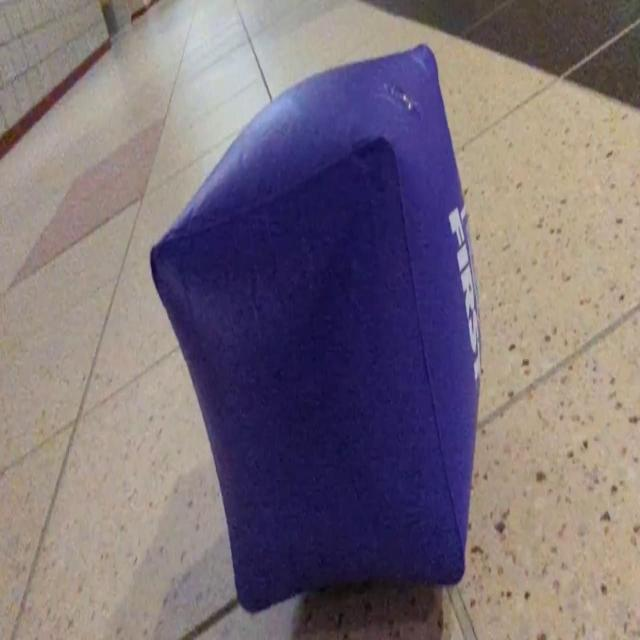frc_cube: (150, 43, 482, 613)
